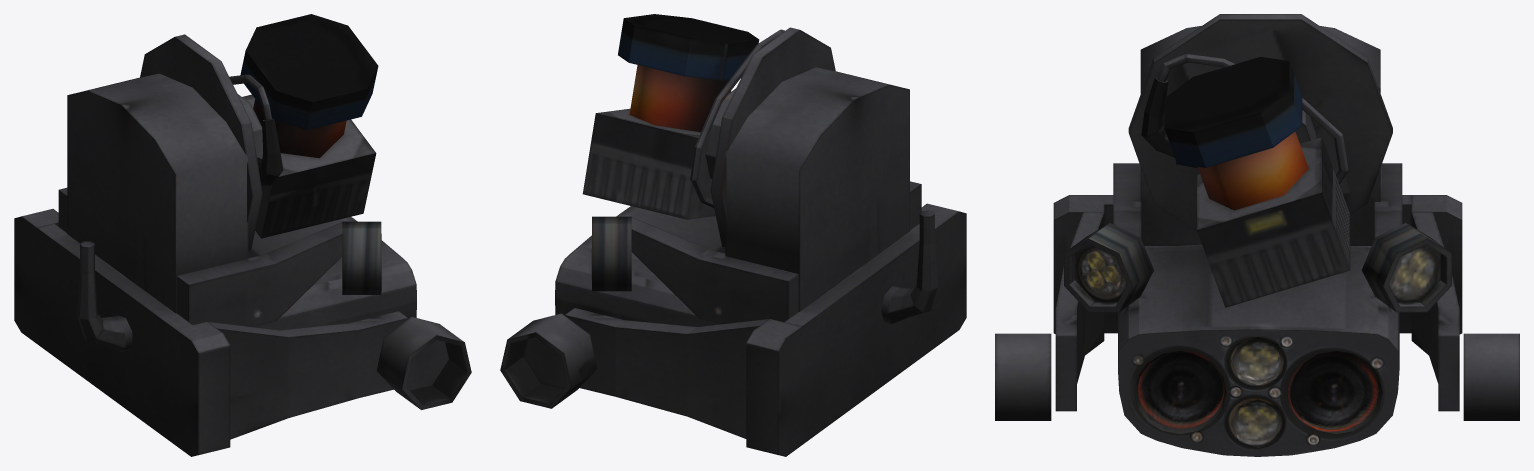
File: head.dae
The picture shows the model from 3 angles, left to right: view 1: azimuth 30°, elevation 25°; view 2: azimuth 150°, elevation 25°; view 3: azimuth 270°, elevation 25°; orthographic projection. The views are drawn at different scales.
Parts seen in each view (by area): view 1: head; view 2: head; view 3: head.
Boxes of the visible parts, box(x1,y1,x2,y2) form: head: box(14, 14, 471, 456); head: box(500, 14, 966, 456); head: box(995, 14, 1519, 456).
Size of the model in its own units: 0.1679 by 0.235 by 0.1765.
Materials: 1 (1 with a texture image).
